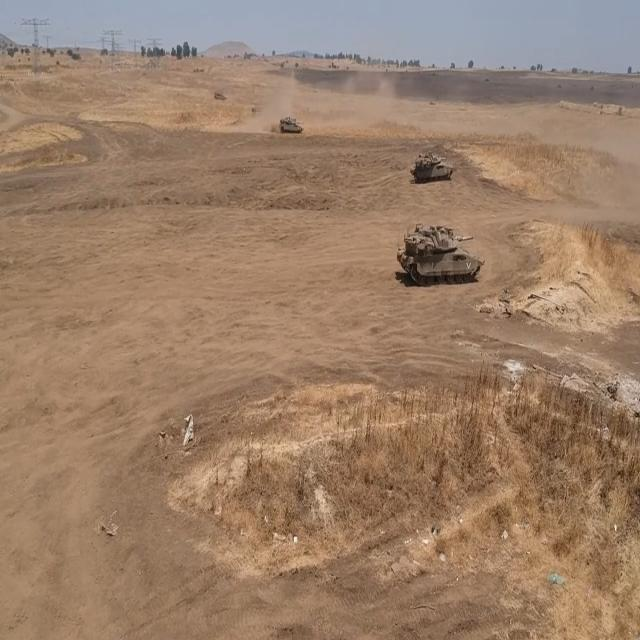tank: (389, 224, 484, 288), (408, 143, 456, 190), (280, 115, 306, 136)
